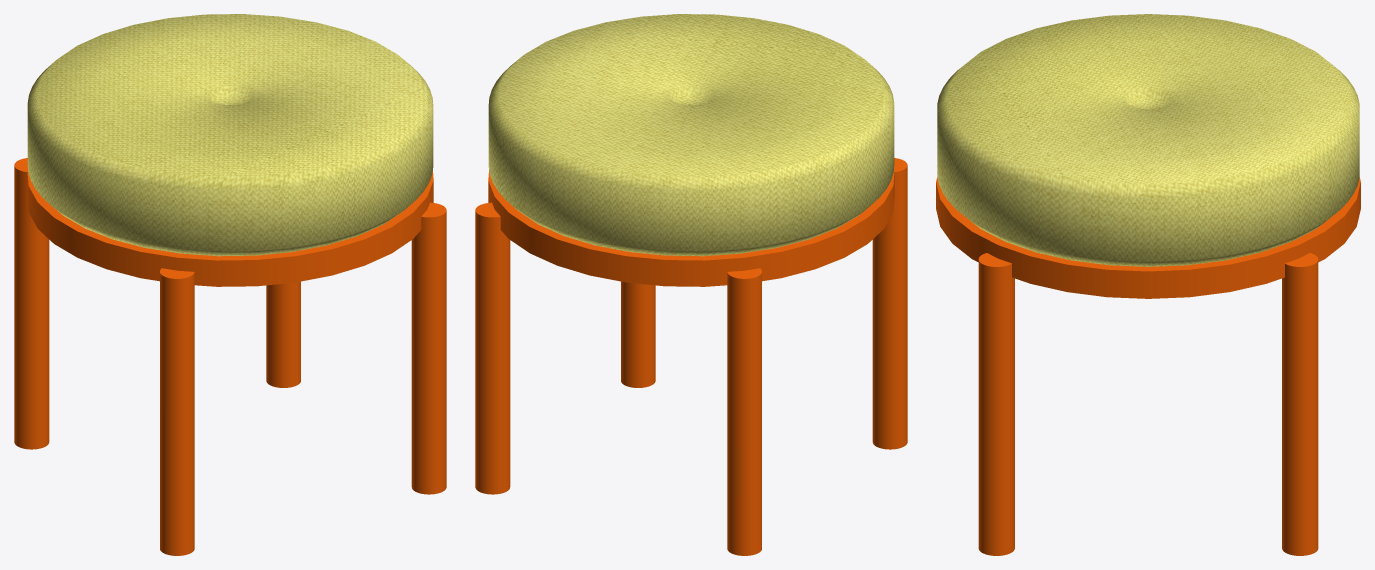
File: furniture_seating_210057.glb
3 renders of one model, left to right at view 1: azimuth 30°, elevation 25°; view 2: azimuth 150°, elevation 25°; view 3: azimuth 270°, elevation 25°, orthographic. The views are drawn at different scales.
Parts seen in each view (by area): view 1: furniture_seating_210057; view 2: furniture_seating_210057; view 3: furniture_seating_210057.
Boxes of the visible parts, x1,y1,x2,y2 form: furniture_seating_210057: (14, 14, 446, 555); furniture_seating_210057: (475, 14, 907, 555); furniture_seating_210057: (936, 14, 1360, 555).
Size of the model in its own units: 0.336 by 0.336 by 0.336.
1 material, 1 textured.
